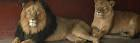lion: (13, 1, 90, 43), (87, 3, 140, 38)
